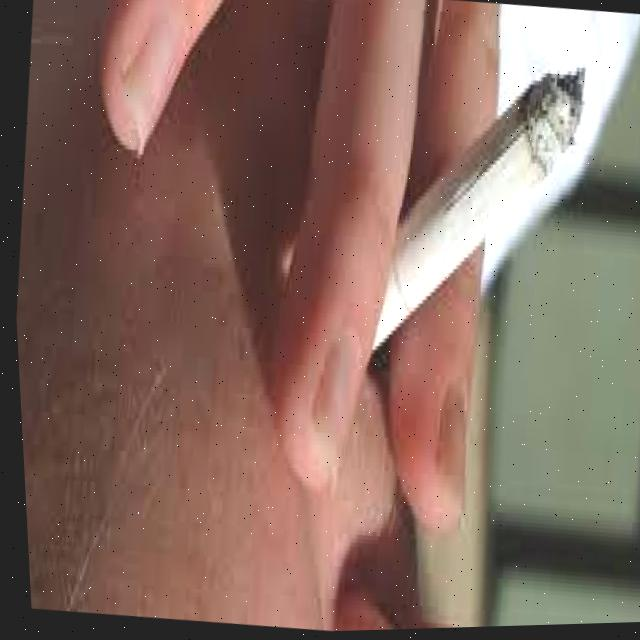cigarette: (371, 66, 582, 344)
